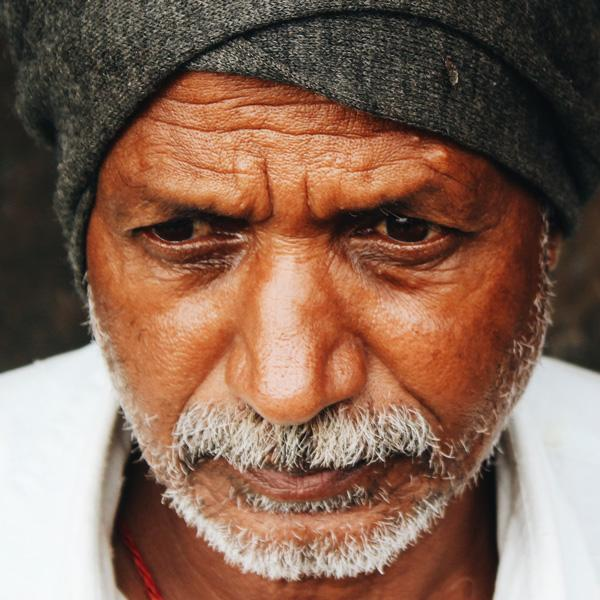Eyes: (119, 199, 252, 272), (347, 202, 468, 269)
